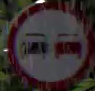No overtake: (7, 0, 91, 85)
